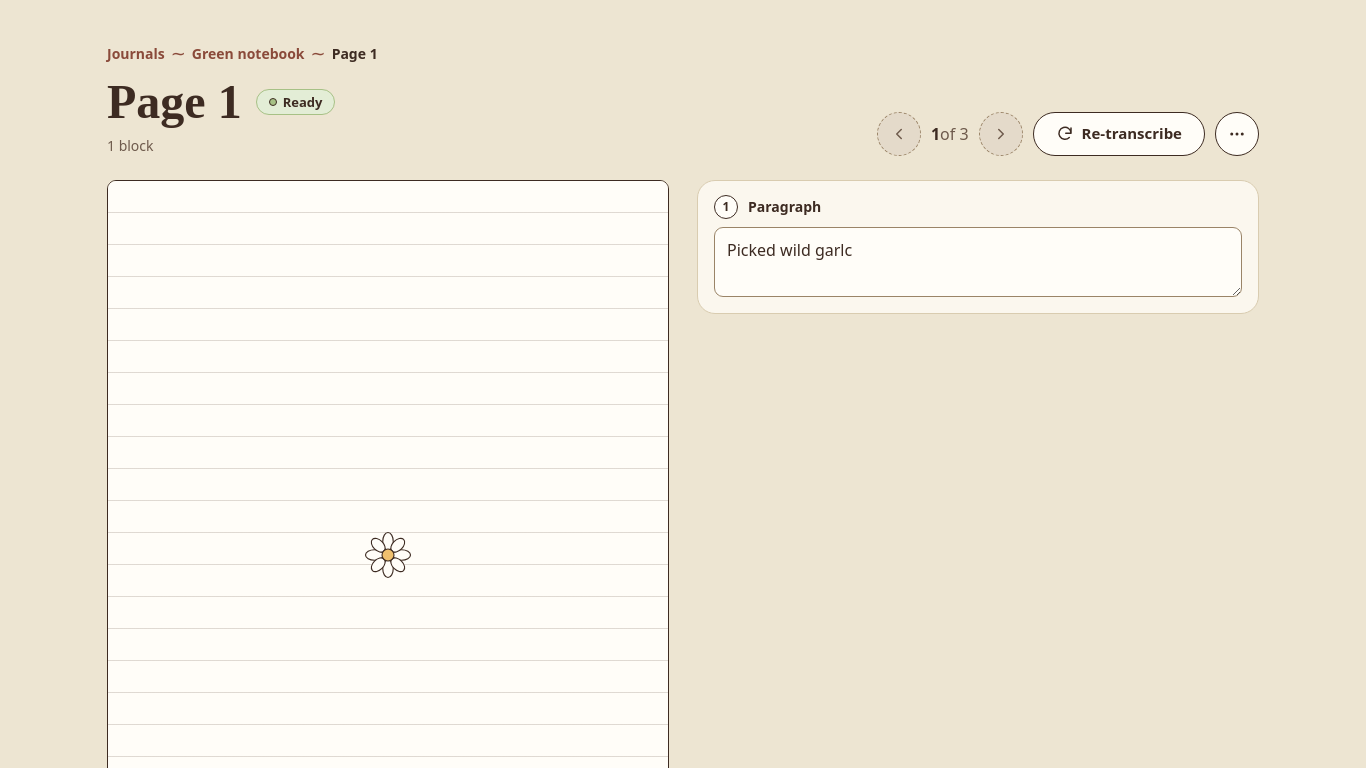
Test: the page detail view › saves an edit with PATCH /blocks/{id} and shows "saved"
The width and height of the screenshot is (1366, 768).
Replace the text in the text box named "Block 1, Paragraph" with "Picked wild garlic". click: (978, 262)
box: [714,227,1242,297]
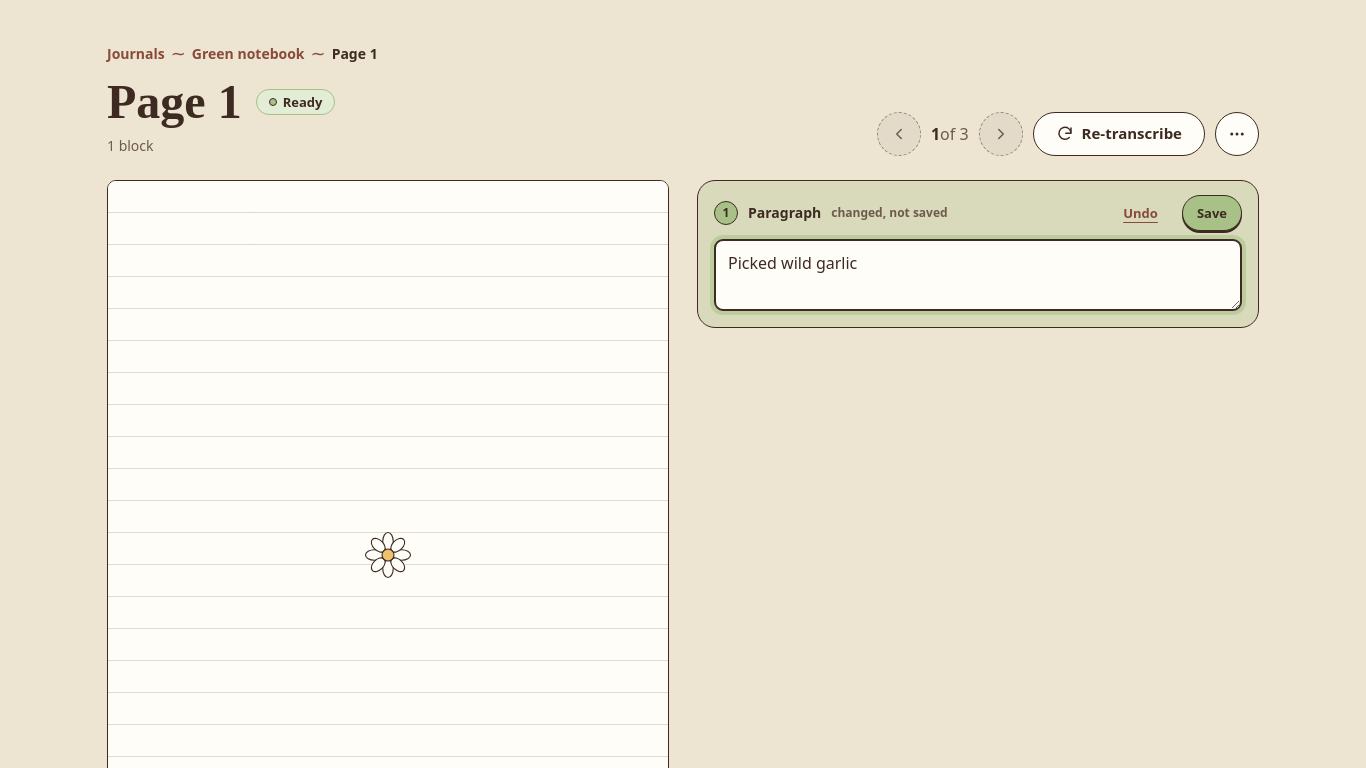
Expected: the text "changed, not saved" is shown, [831,205,948,221]
Click the button "Save". click: (1212, 213)
box: [1182,195,1242,231]
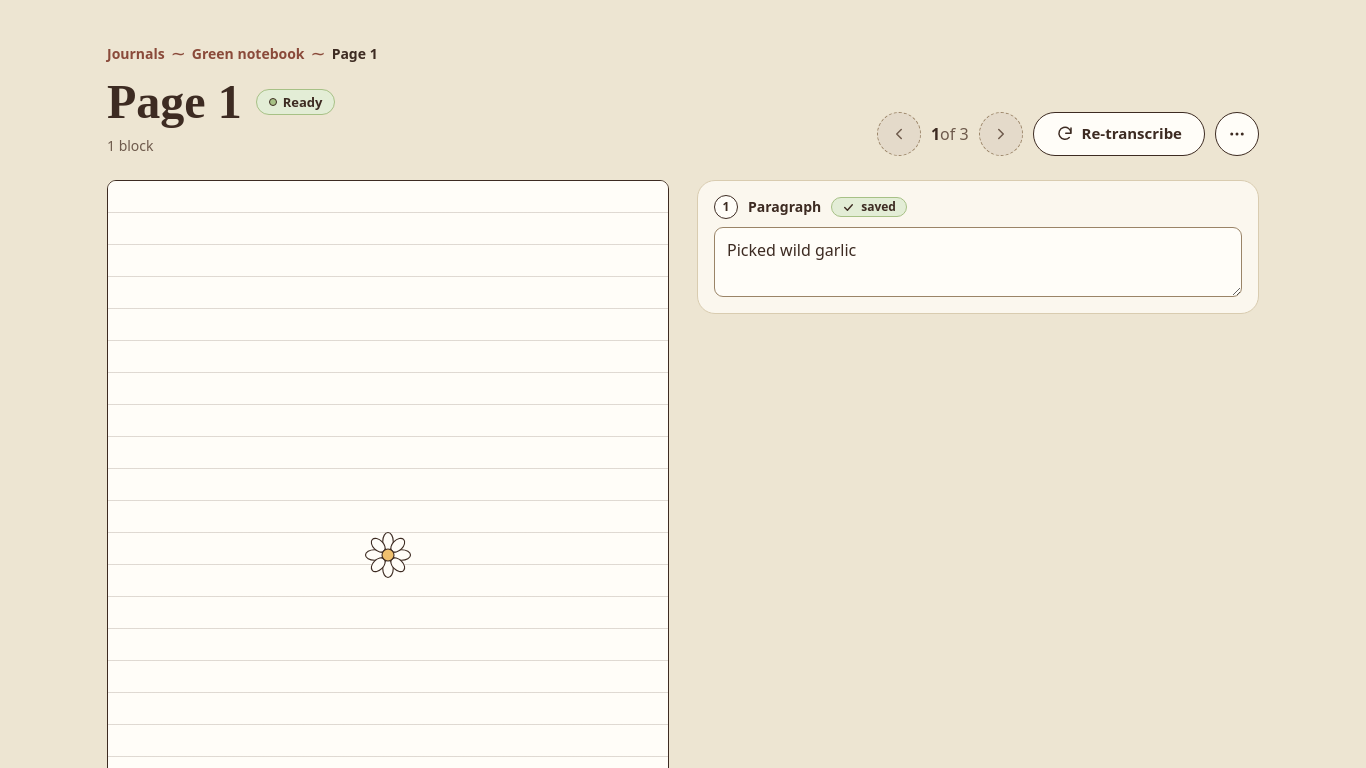
Expected: the text "saved" is shown, [831,197,907,217]
Expected: the text "changed, not saved" is gone
